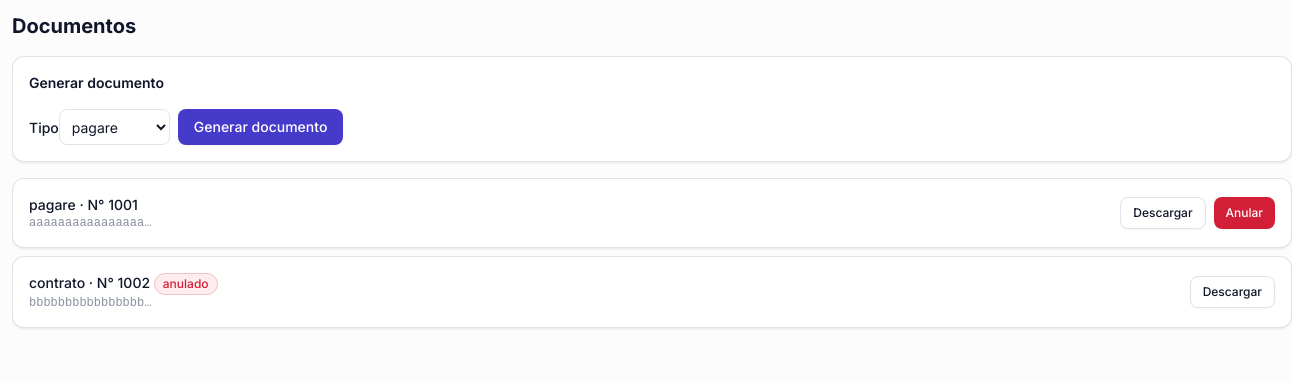
Test case: DocumentosPage › generar envía Idempotency-Key
Check: the text "pagare · N° 1001" is shown, box left=29, top=195, right=151, bottom=215
Click the button "Generar documento".
click(261, 127)  # box left=178, top=109, right=343, bottom=145
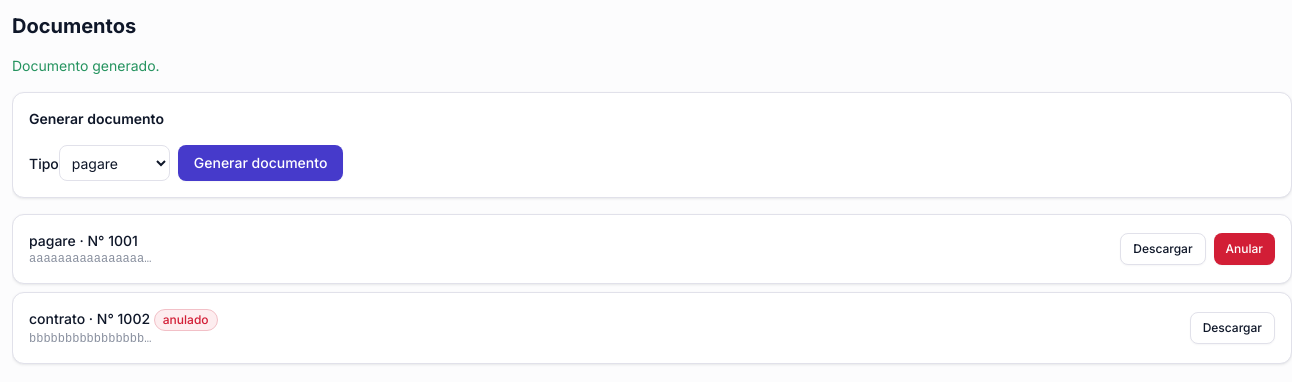
Check: the text "Documento generado." is shown, box left=12, top=57, right=160, bottom=74
